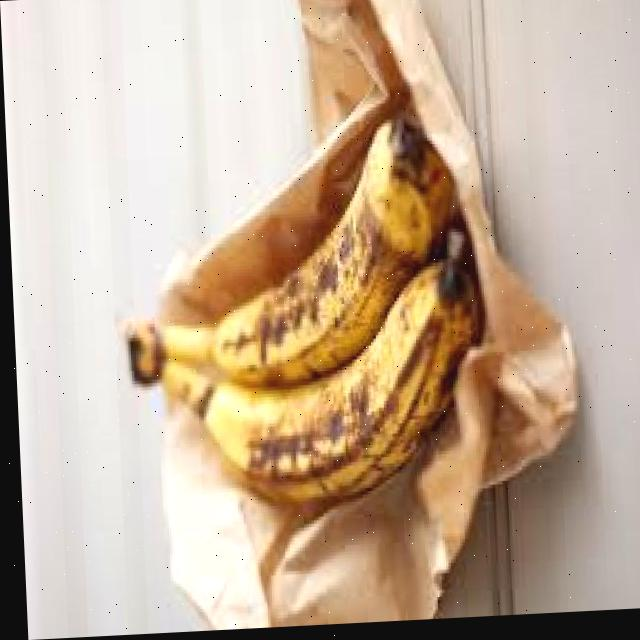banana: (111, 112, 488, 514)
